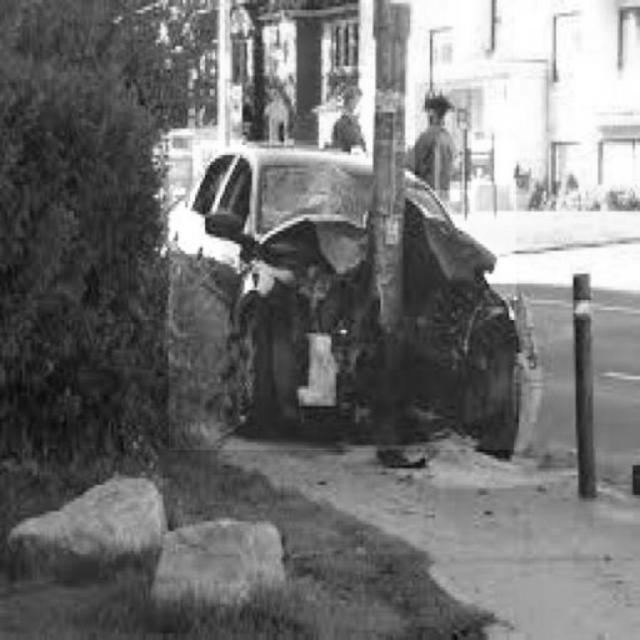accident: (170, 140, 517, 450)
person: (415, 83, 471, 191), (338, 79, 375, 150)
